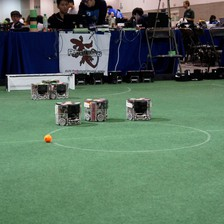ball: (42, 132, 52, 143)
goal: (4, 72, 76, 92)
robot: (53, 99, 82, 125), (124, 96, 154, 121), (82, 95, 109, 122), (29, 80, 50, 101), (51, 79, 71, 101), (107, 68, 123, 84), (88, 69, 104, 85), (139, 68, 154, 84), (124, 68, 139, 84), (74, 69, 88, 86)
